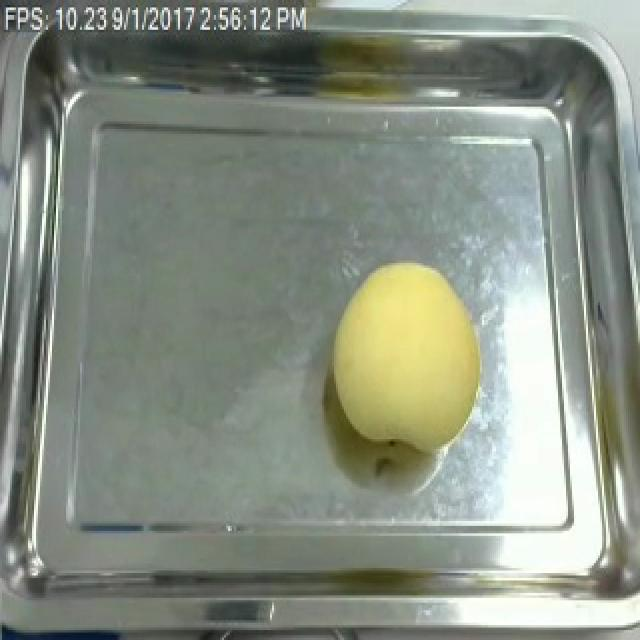Fruit: (320, 250, 492, 457)
